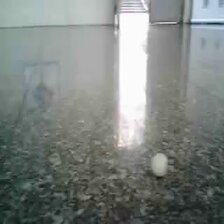w: (149, 152, 170, 178)
